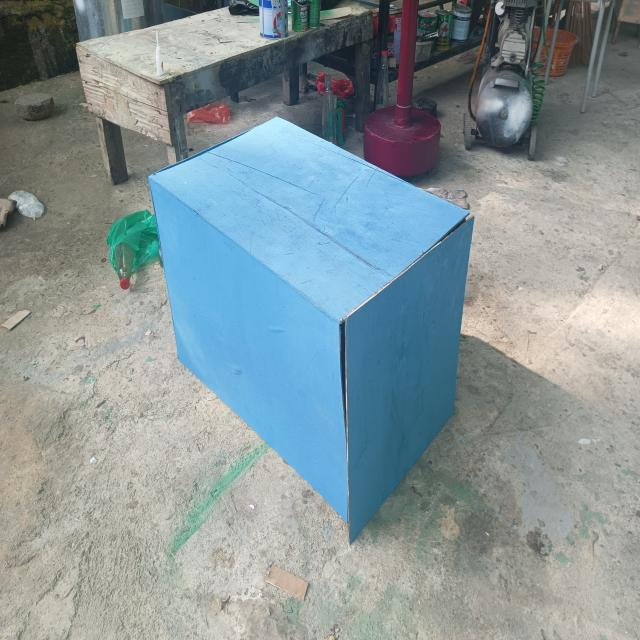blue_box: (143, 107, 448, 534)
